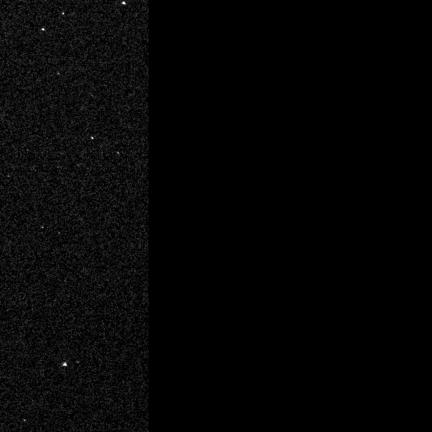blob: (63, 362, 67, 366), (122, 2, 126, 5), (91, 137, 95, 140), (117, 152, 120, 155), (42, 28, 45, 31), (42, 226, 44, 229), (62, 13, 65, 15)
